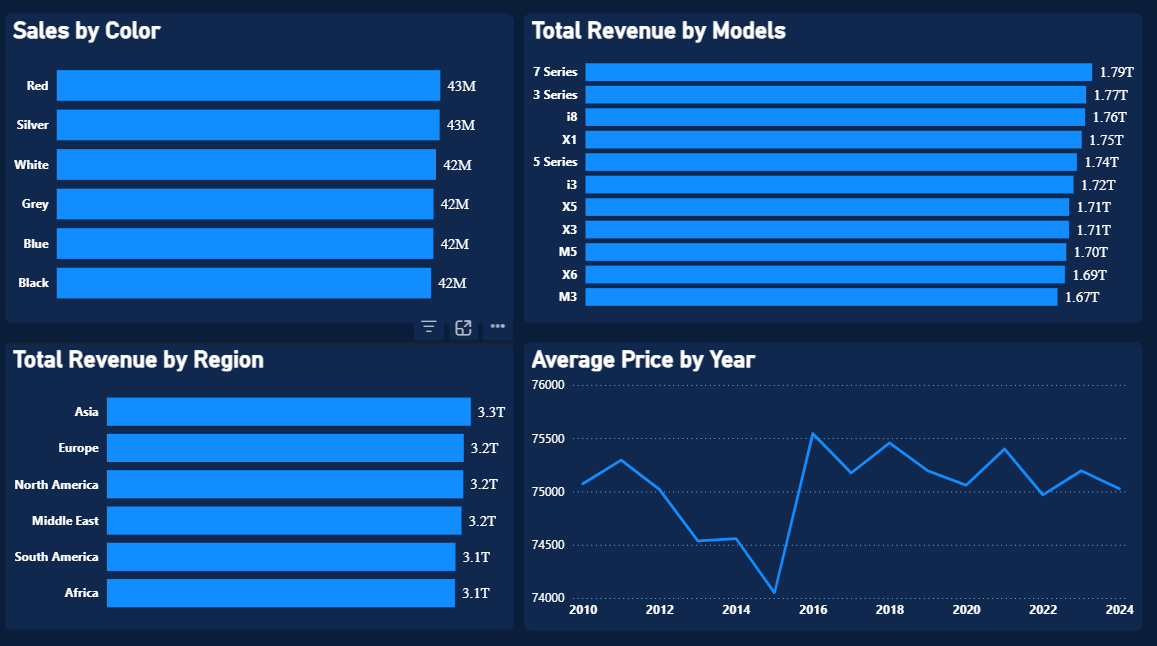

This screenshot's page, from the dashboard's own definition file:
{"tool":"powerbi","page":{"name":"Page 3","canvas":[1280,720],"ordinal":2},"visuals":[{"type":"barChart","title":"Total Revenue by Models","fields":{"Category":["BMW sales data (2010-2024) (1).Model"],"Y":["BMW sales data (2010-2024) (1).Total Revenue"]},"box":[580.4,19.2,679.2,340.3],"z":0},{"type":"barChart","title":"Sales by Color","fields":{"Category":["BMW sales data (2010-2024) (1).Color"],"Y":["Sum(BMW sales data (2010-2024) (1).Sales_Volume)"]},"box":[11,19.2,558.5,340.3],"z":1000},{"type":"barChart","title":"Total Revenue by Region","fields":{"Category":["BMW sales data (2010-2024) (1).Region"],"Y":["BMW sales data (2010-2024) (1).Total Revenue"]},"box":[11,380.1,558.5,317],"z":2000},{"type":"lineChart","title":"Average Price by Year","fields":{"Category":["BMW sales data (2010-2024) (1).Year"],"Y":["Avg(BMW sales data (2010-2024) (1).Price_USD)"]},"box":[580.4,380.1,679.2,317],"z":3000}]}

Visuals, with their boxes in screenshot pixels (x1, y1, x2, y2), scaled from the page's 1280x720 canvas onto the 1157x646 screenshot:
"Total Revenue by Models" barChart: {"left": 525, "top": 17, "right": 1139, "bottom": 323}
"Sales by Color" barChart: {"left": 10, "top": 17, "right": 515, "bottom": 323}
"Total Revenue by Region" barChart: {"left": 10, "top": 341, "right": 515, "bottom": 625}
"Average Price by Year" lineChart: {"left": 525, "top": 341, "right": 1139, "bottom": 625}
